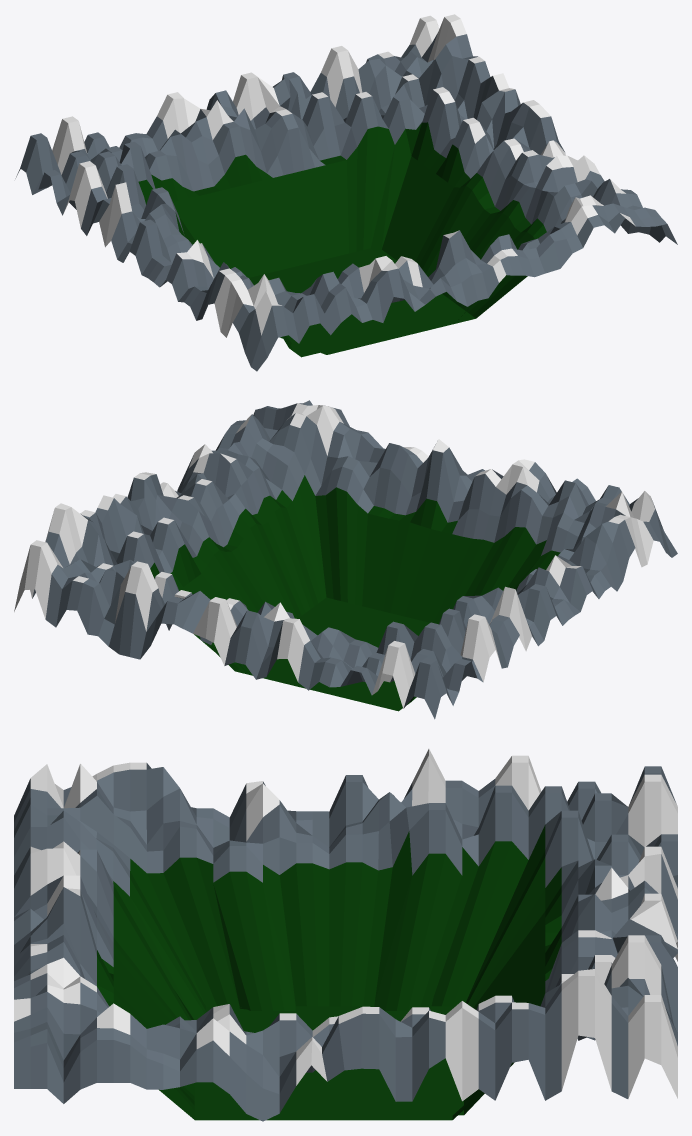
Rendered from mountainRange.fbx.
3 renders of one model, top to bottom at view 1: azimuth 30°, elevation 25°; view 2: azimuth 150°, elevation 25°; view 3: azimuth 270°, elevation 25°, orthographic. The views are drawn at different scales.
Visible parts, largest first — view 1: pPlane1; view 2: pPlane1; view 3: pPlane1.
Part boxes in pixels (x1,y1,x2,y2): pPlane1: [15, 14, 677, 371]; pPlane1: [14, 400, 677, 719]; pPlane1: [14, 749, 677, 1121].
Size of the model in its own units: 101 by 37.83 by 100.
